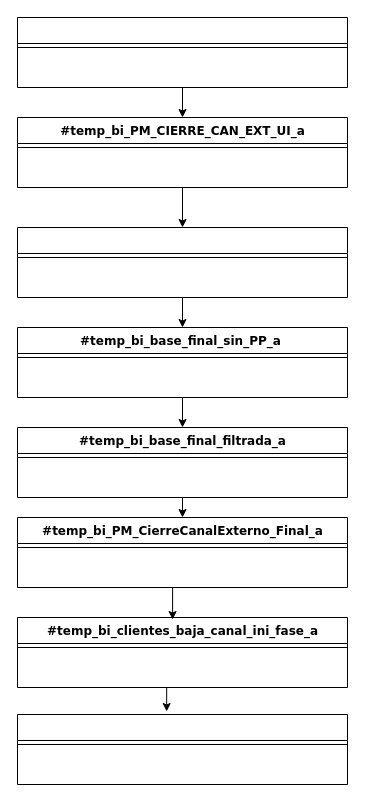
Image size: 365x802. Some labels were removed from this diagram. Each missing label, with the centre of its shape:
"#temp_bi_base_altas_tc_aho_a" goes at pixel 182 52.
"#temp_bi_clientes_baja_canal_ini_fase_final" goes at pixel 182 749.
"#temp_bi_PM_CierreCanalExterno_Proceso_a" goes at pixel 182 262.
